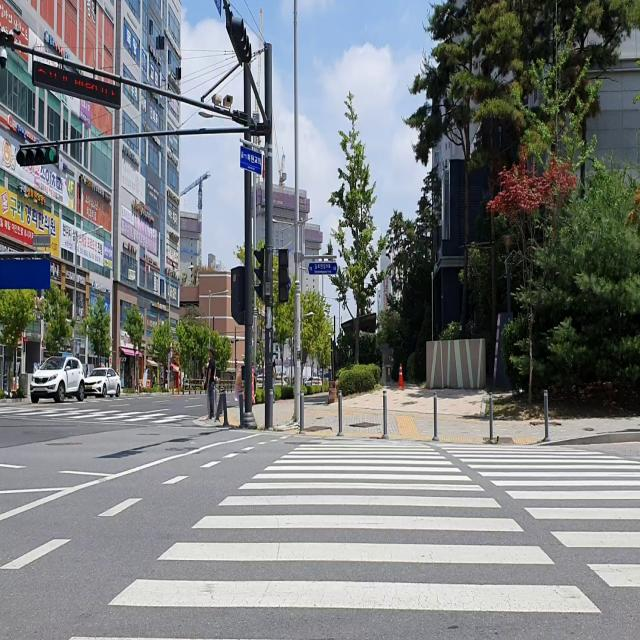횡단보도: (67, 438, 640, 640), (0, 406, 201, 426)
